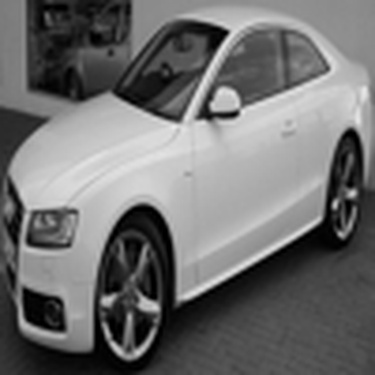car: (4, 3, 371, 370), (52, 2, 134, 105), (26, 20, 61, 86), (54, 5, 108, 46)
